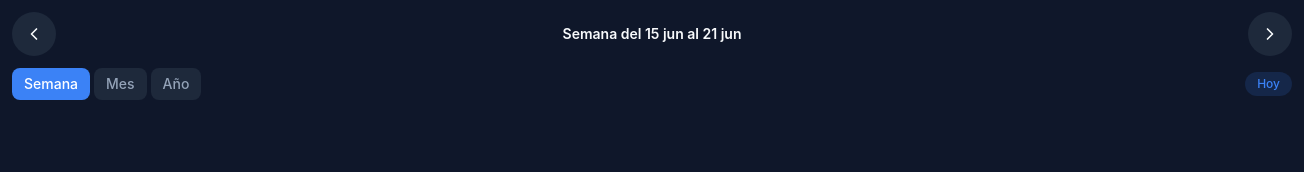
Test case: PeriodoNavegacion.svelte › coherencia entre vistas (AC-22, AC-23) › Semana → Mes: mantiene la referencia temporal (AC-22)
The image size is (1304, 172).
# Cambiar a Mes
Click the button "Mes" at [120, 84], box [94,68,146,100]
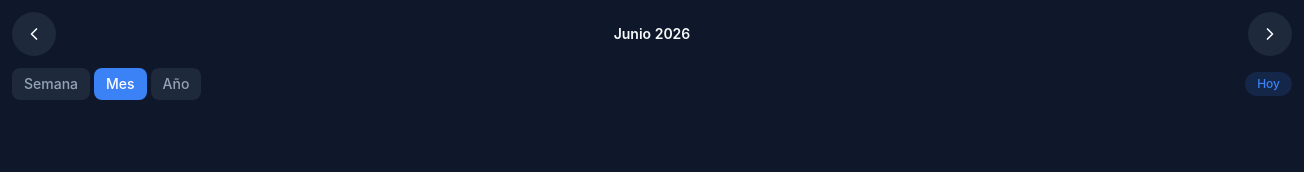
Now the button "Junio 2026" is shown, box [60,16,1244,52]
